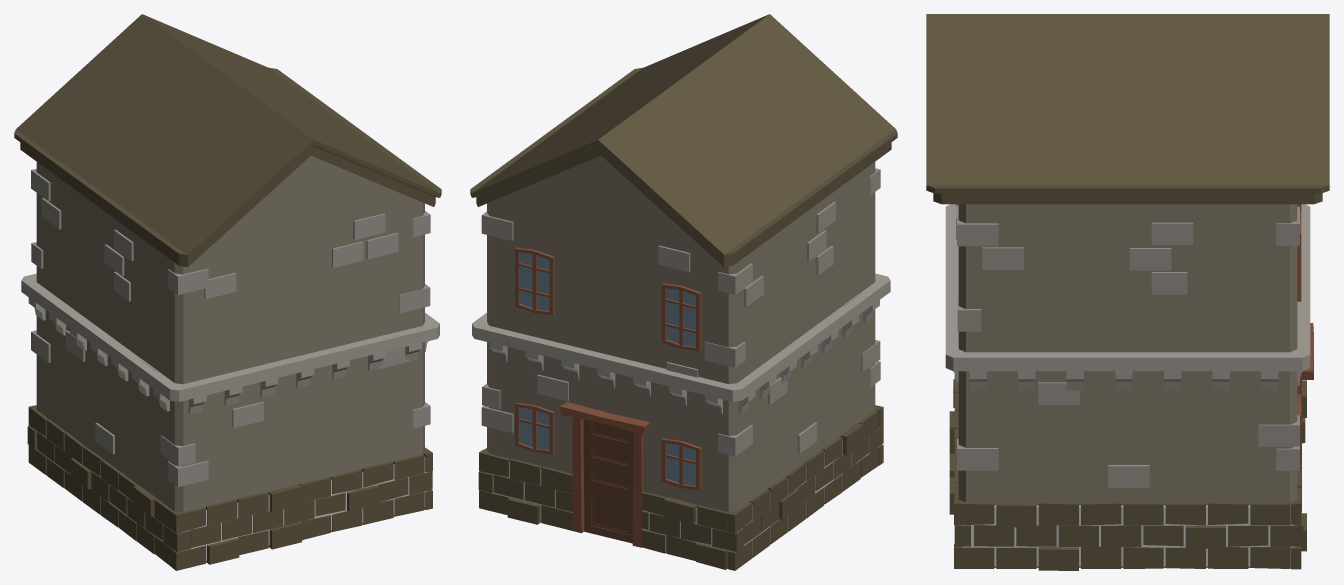
The model's file is 2Story_GableRoof.glb.
3 renders of one model, left to right at view 1: azimuth 30°, elevation 25°; view 2: azimuth 150°, elevation 25°; view 3: azimuth 270°, elevation 25°, orthographic. The views are drawn at different scales.
Parts seen in each view (by area): view 1: 2Story_GableRoof; view 2: 2Story_GableRoof; view 3: 2Story_GableRoof.
Part boxes in pixels (x1,y1,x2,y2): 2Story_GableRoof: (14,14,441,570); 2Story_GableRoof: (470,14,897,570); 2Story_GableRoof: (926,14,1329,570).
Size of the model in its own units: 2.16 by 3.13 by 2.38.
Materials: 1 (1 with a texture image).
